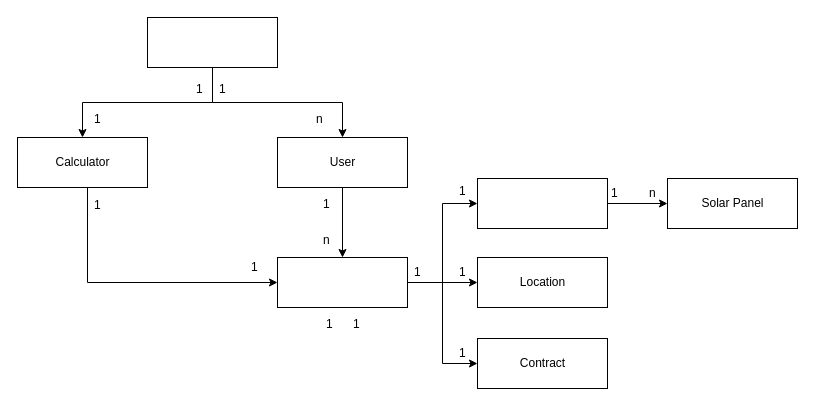
The diagram is 815 pixels wide and 406 high, and some of its shapes have lost their labels. Each missing label, with the box of its shape:
ElectricityCalculator: (146, 16, 278, 68)
Property: (276, 256, 408, 308)
Solar Setup: (476, 178, 608, 228)
